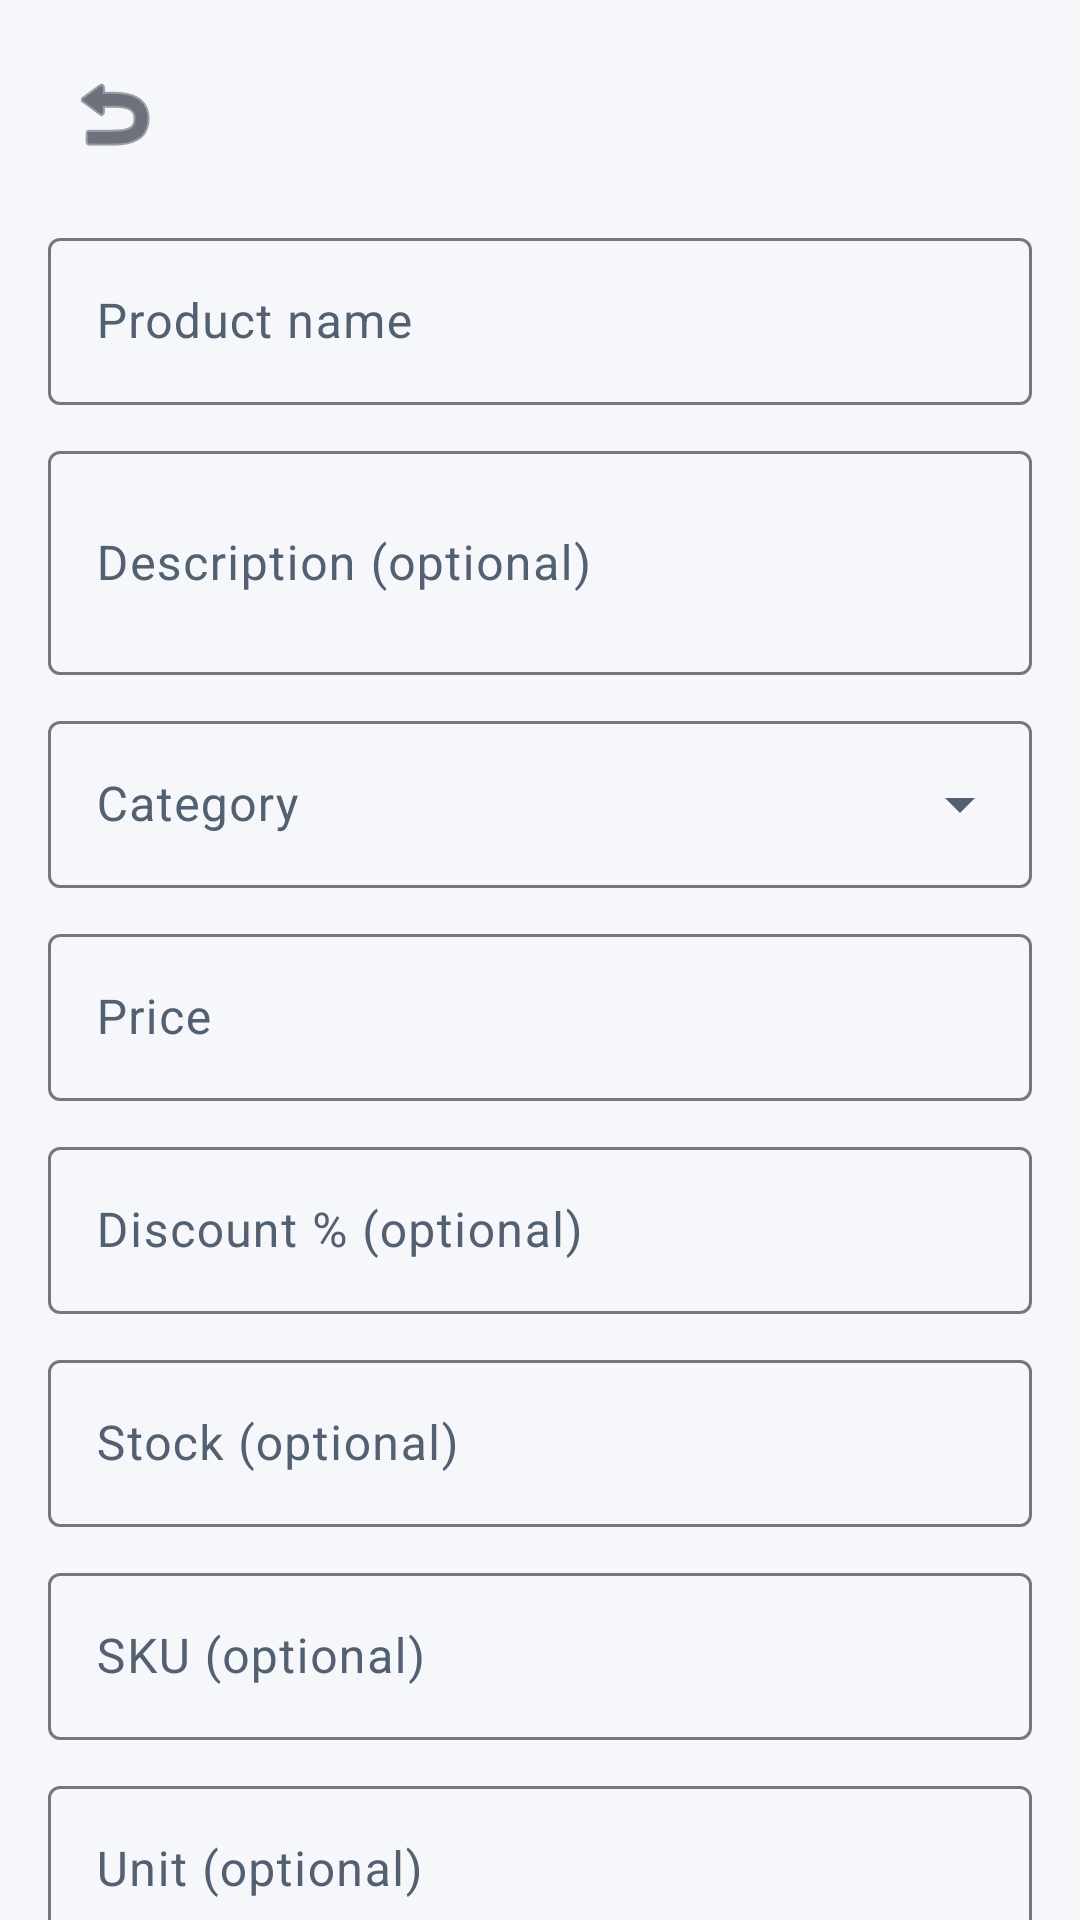

Icon bounding boxes for this 1080px x 1920px phone screenshot, format (x1=x1, y1=y1, x2=x2, y2=y2):
Back: (x1=81, y1=83, x2=150, y2=146)
